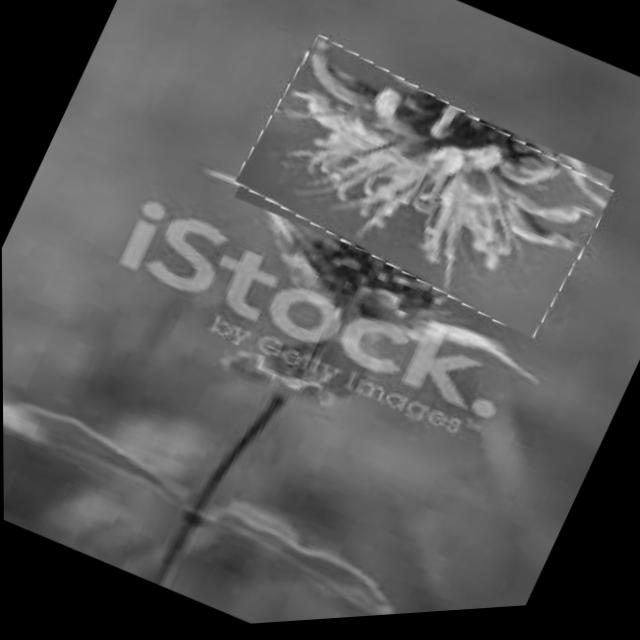Flower: (226, 26, 622, 361)
